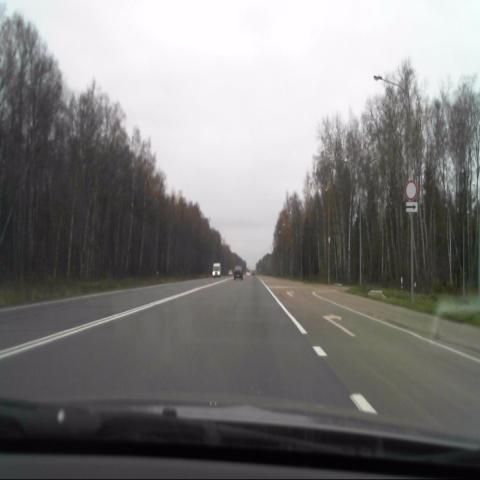3_2: (404, 179, 418, 200)
